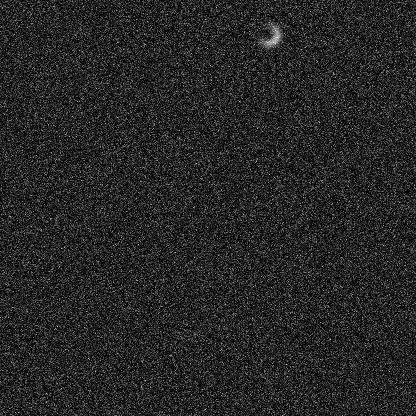Janus: (252, 19, 282, 49)
